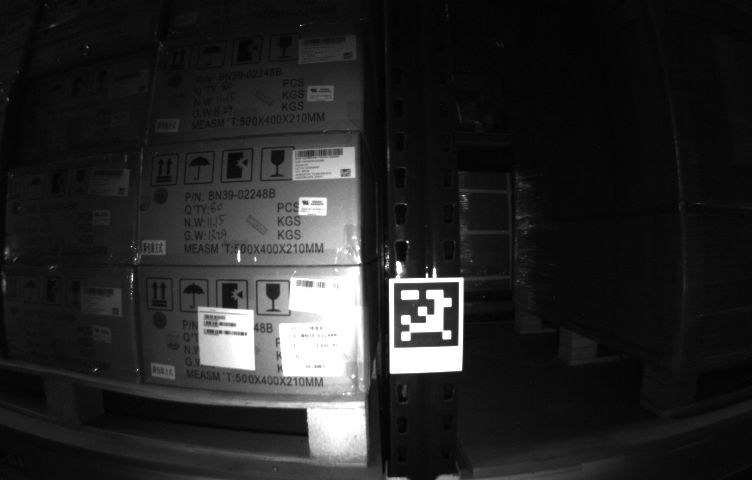True Barcode: (278, 322, 340, 378)
